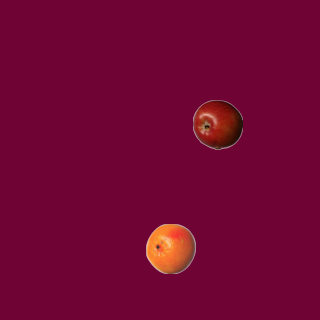Apple Braeburn: (192, 99, 242, 149)
Grapefruit Pink: (145, 223, 195, 273)
